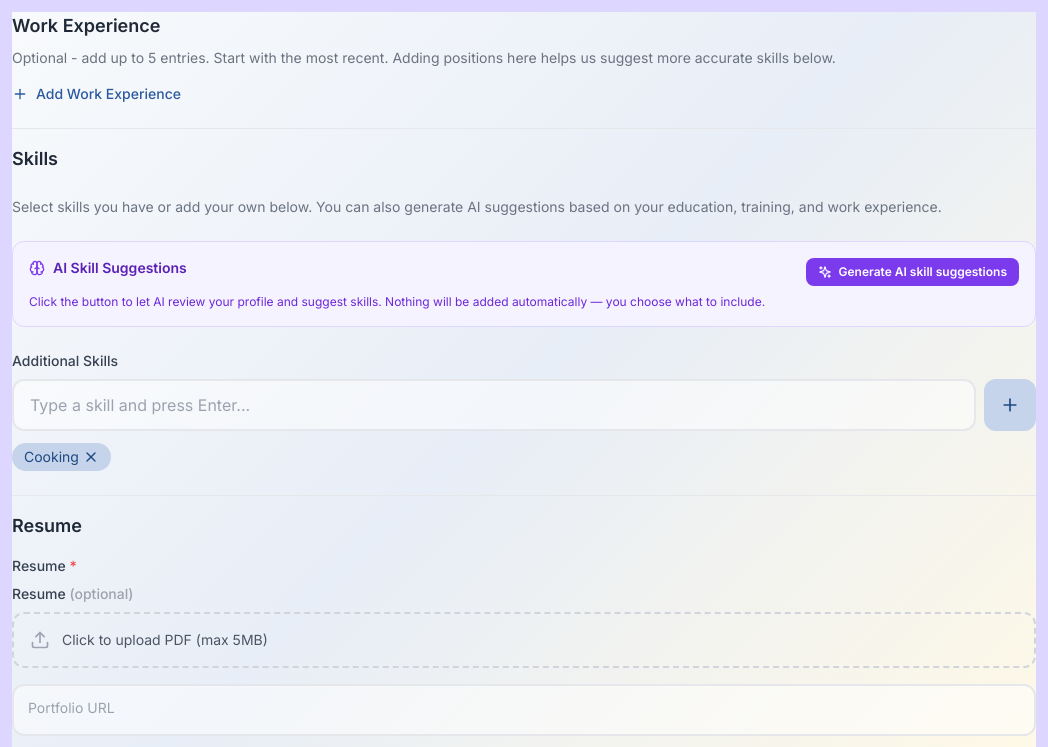
Test case: Step5SkillsExperience — AI skill suggestions › filters out already-selected skills from AI suggestions
Click the button "Generate AI skill suggestions" at (913, 272), box [806,258,1019,286]
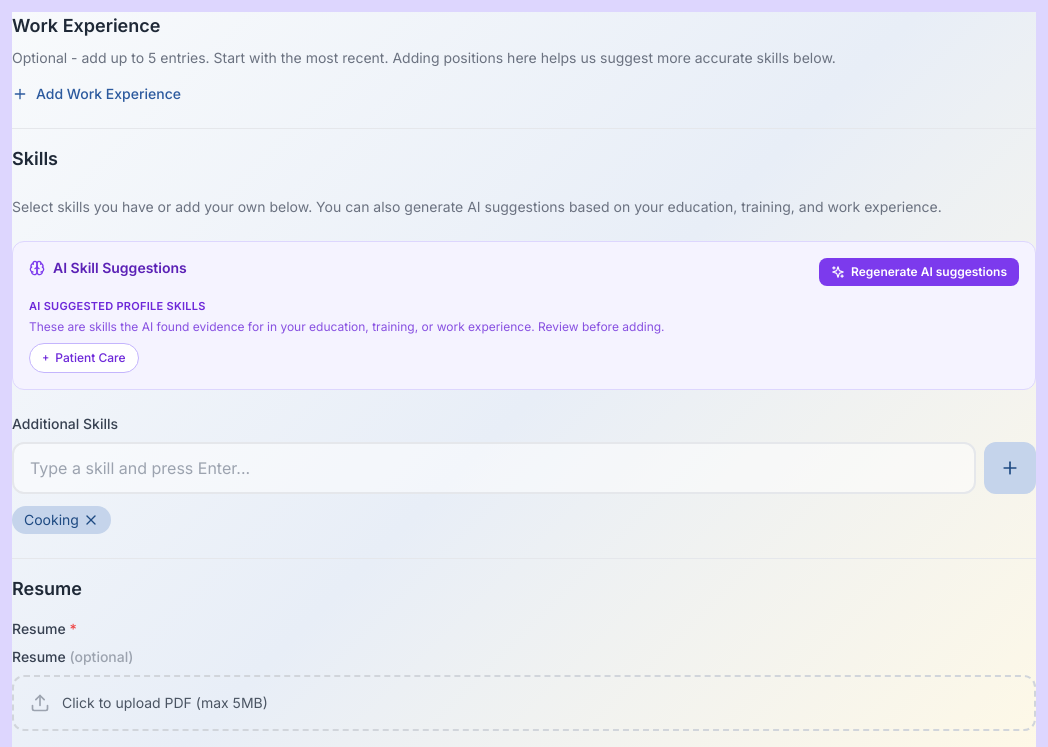
Expected: the text "AI Suggested Profile Skills" does not show "Cooking"
Result: the text "AI Suggested Profile Skills" is shown at [29,299,206,313]
Result: the text "AI Suggested Profile Skills" shows "Patient Care" at [29,342,138,372]
